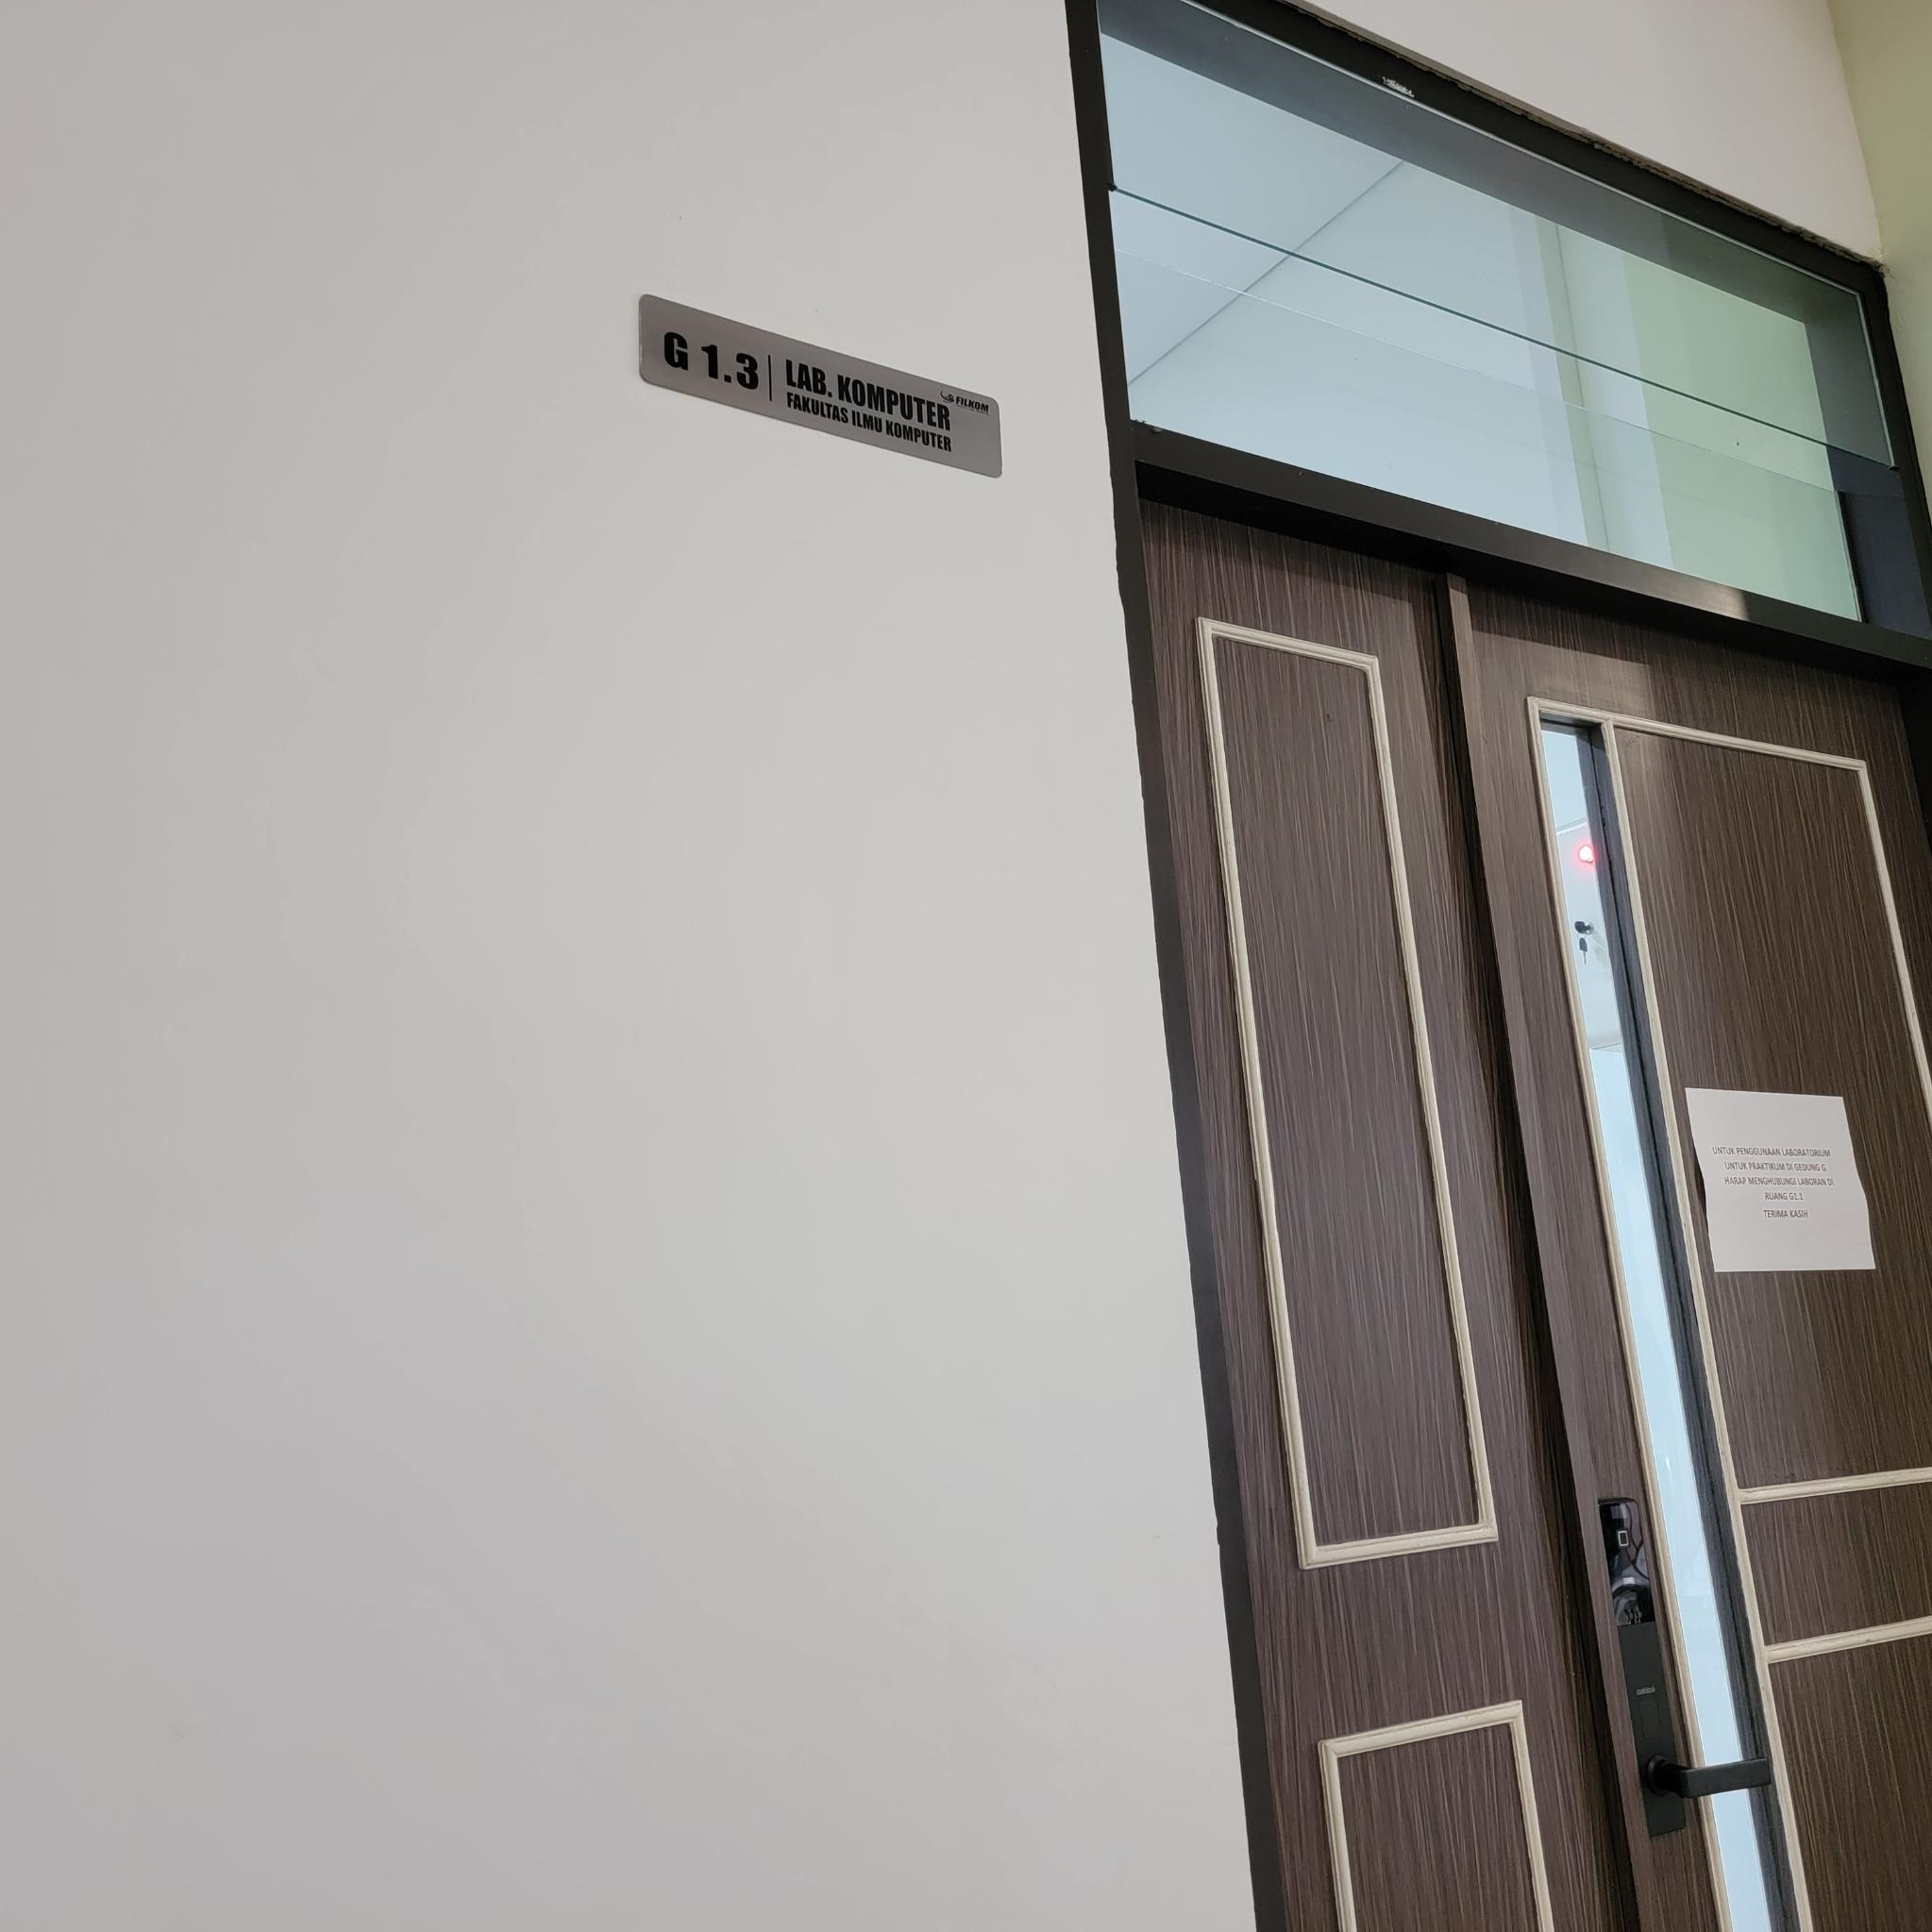plate: (639, 290, 1003, 479)
